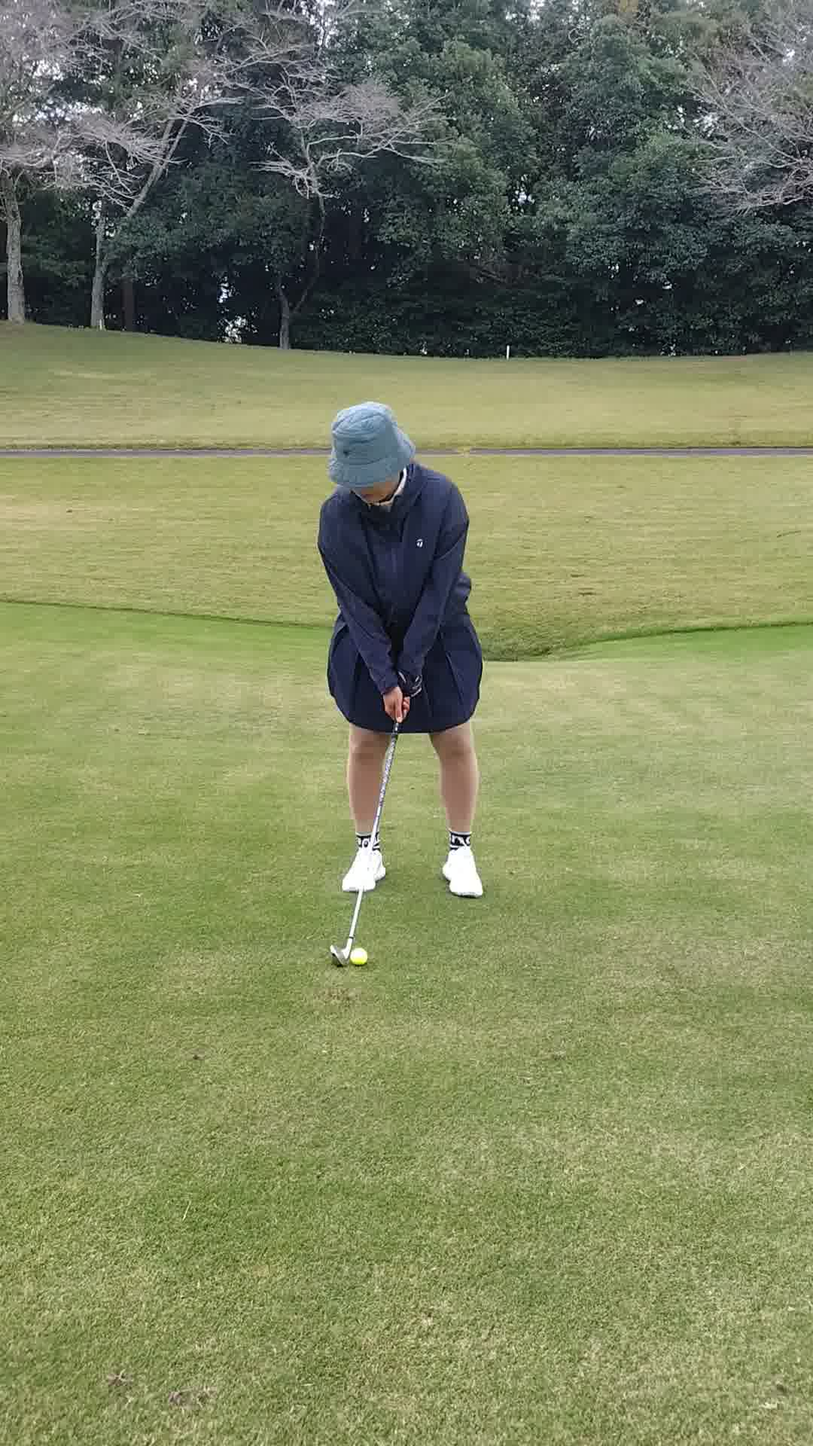clubhead: (272, 908, 416, 1016)
